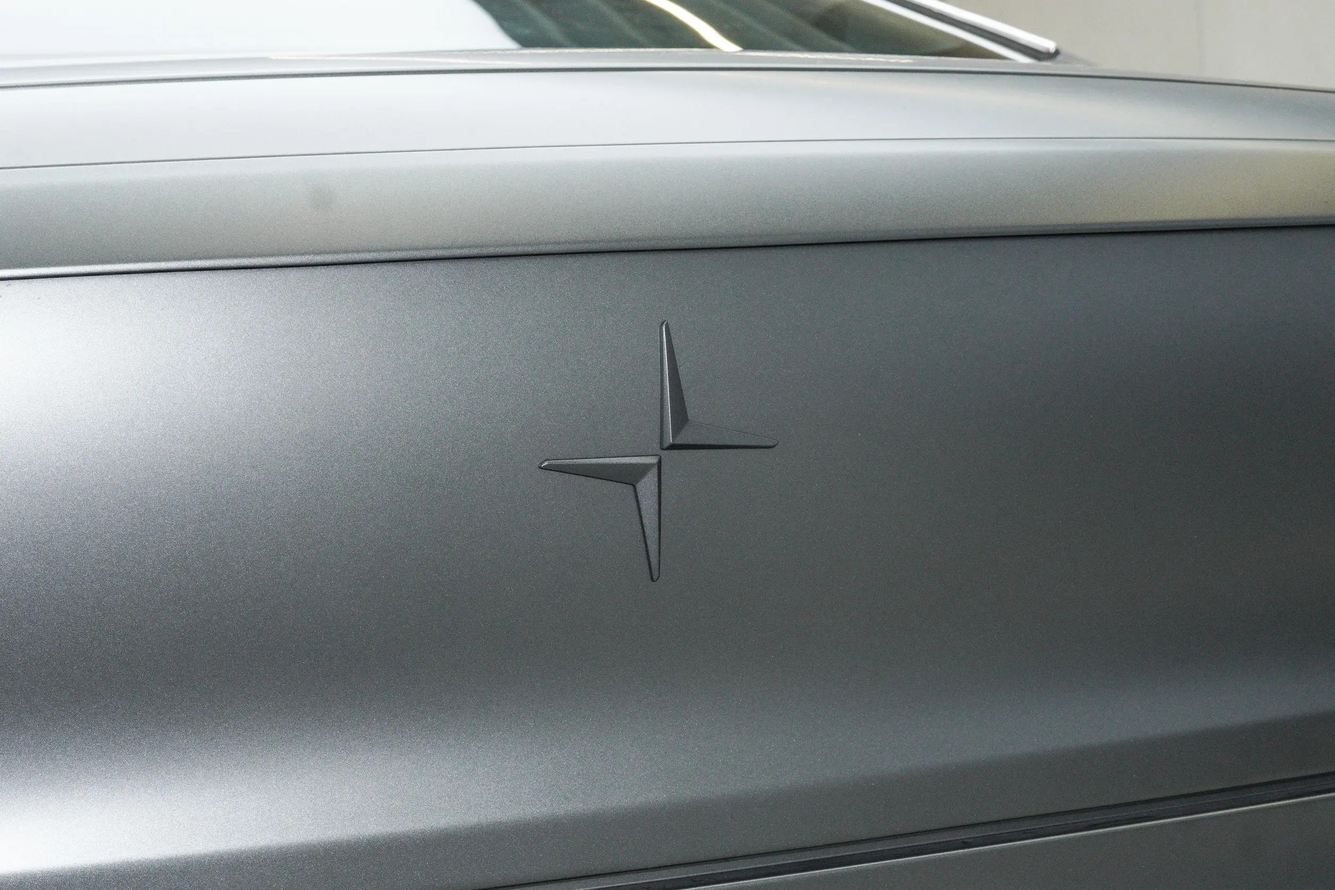Polestar: (540, 321, 778, 581)
